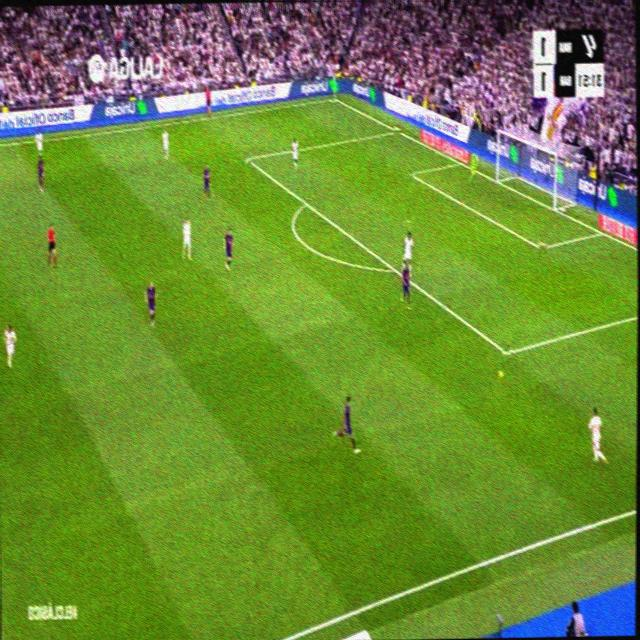bigarea_bottom_inner: (502, 339, 512, 364)
bigarea_top_inner: (245, 150, 250, 164)
bigarea_top_outter: (394, 124, 400, 134)
bottom_arc_area_intersection: (390, 260, 396, 274)
corner: (330, 92, 338, 102)
smallarea_bottom_inner: (538, 238, 546, 255)
smallarea_top_inner: (409, 168, 413, 176)
top_arc_area_intersection: (301, 193, 310, 208)
